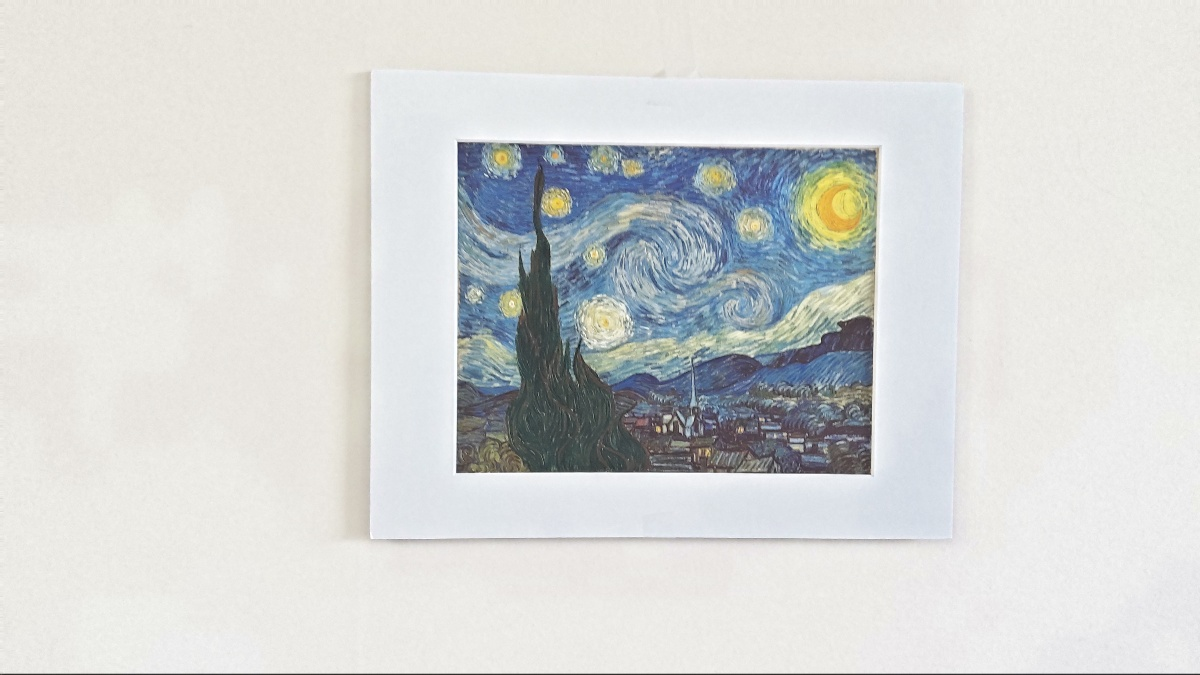painting: (444, 128, 887, 482)
